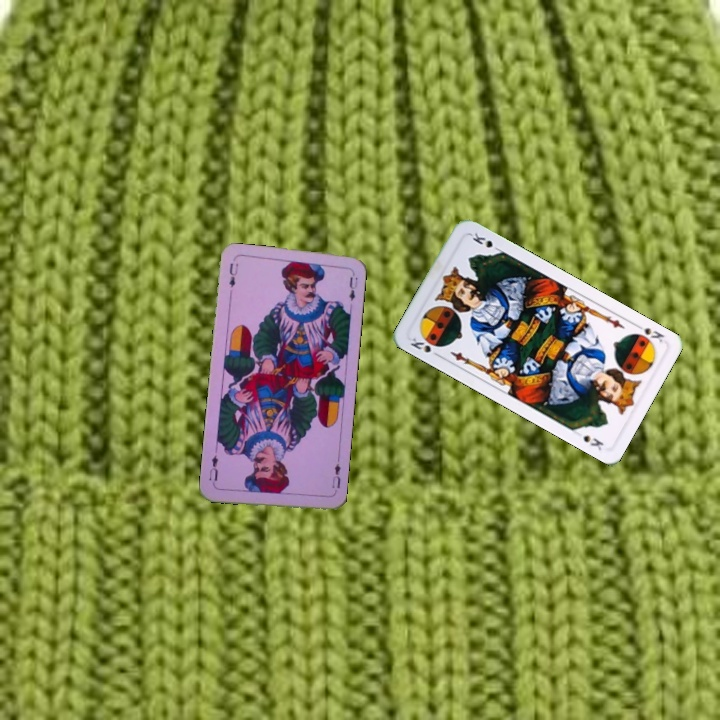EU: (328, 456, 343, 497), (225, 259, 241, 290)
SK: (406, 331, 443, 360), (631, 321, 667, 345)
